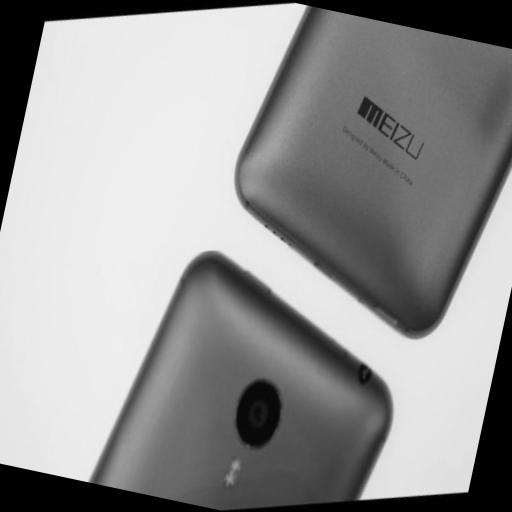phone: (227, 9, 512, 337), (83, 248, 402, 509)
